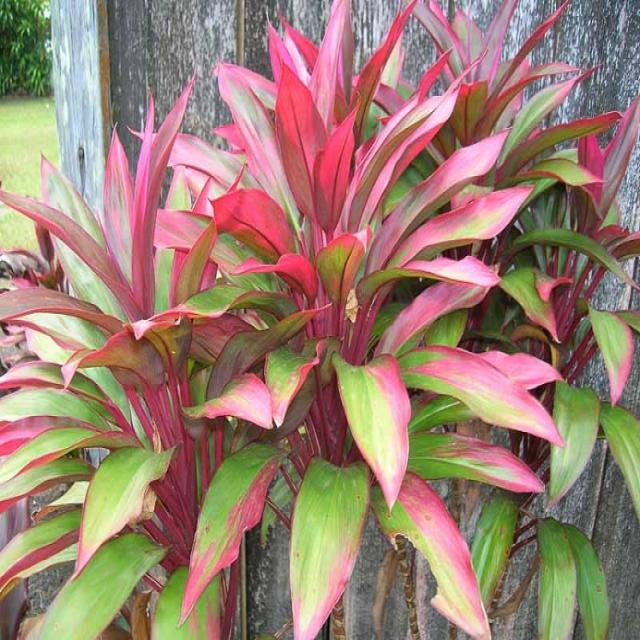Ti: (117, 51, 544, 638), (1, 107, 286, 619), (360, 20, 635, 517)
